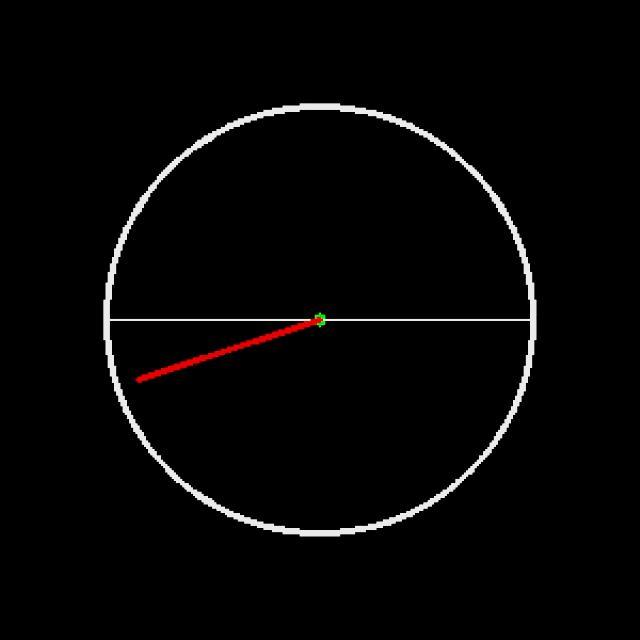Needle_Tip: (105, 347, 176, 402)
Needle_base: (292, 290, 350, 345)
